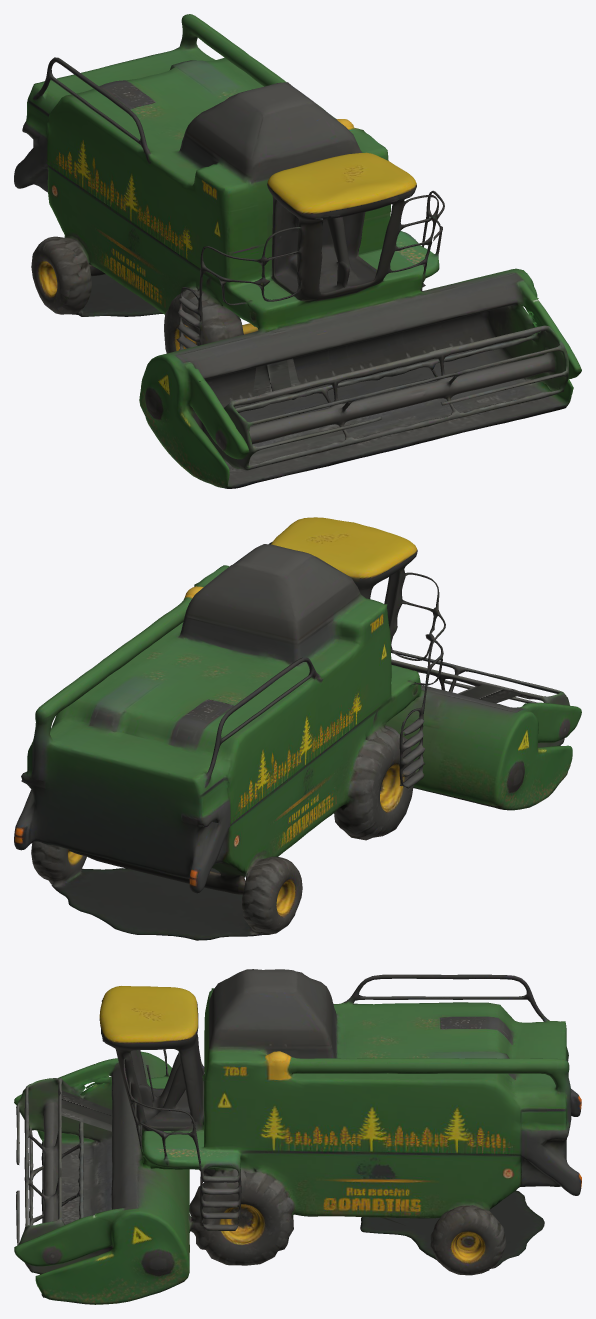
The model's file is harvester.glb.
The picture shows the model from 3 angles, top to bottom: view 1: azimuth 30°, elevation 25°; view 2: azimuth 150°, elevation 25°; view 3: azimuth 270°, elevation 25°; orthographic projection. The views are drawn at different scales.
Visible parts, largest first — view 1: tripo_node_9c6cdaa4; view 2: tripo_node_9c6cdaa4; view 3: tripo_node_9c6cdaa4.
Part boxes in pixels (bbox=[...]): tripo_node_9c6cdaa4: bbox=[14, 14, 581, 488]; tripo_node_9c6cdaa4: bbox=[14, 517, 581, 940]; tripo_node_9c6cdaa4: bbox=[14, 969, 581, 1304].
Size of the model in its own units: 67.35 by 46.89 by 97.39.
1 material, 1 textured.
